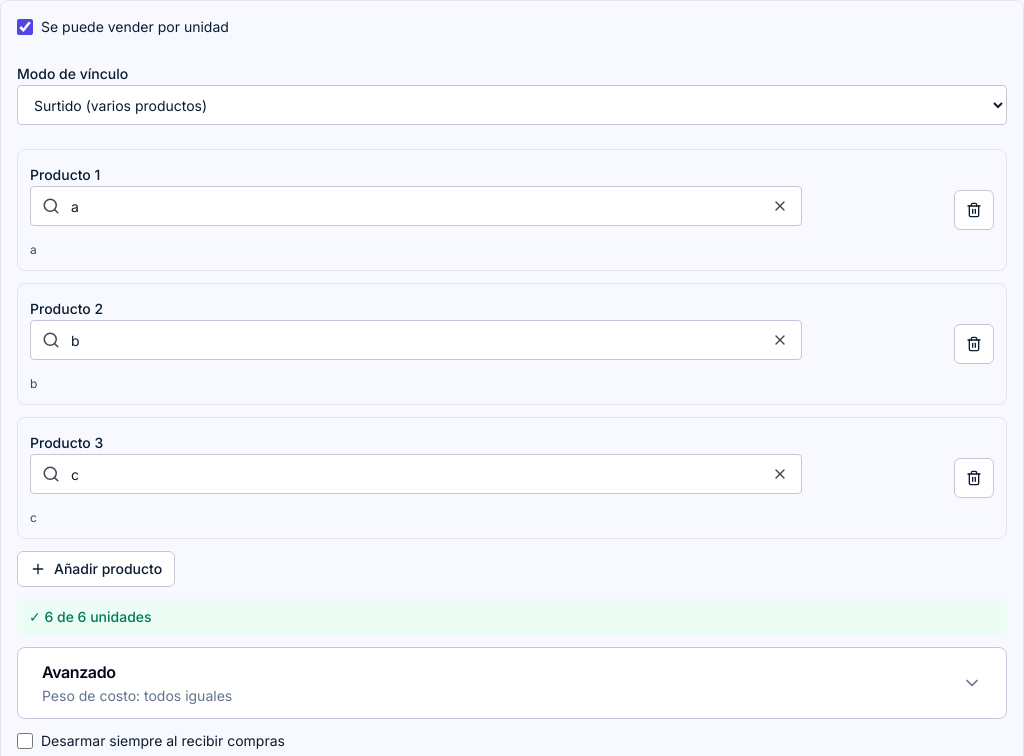
ProductPackConversionFields · modo surtido (PRO-13) › quitar una fila la saca de la receta y deja el foco en «Añadir producto»
Click the button named "Quitar producto 2": click(974, 344) [954,324,994,364]
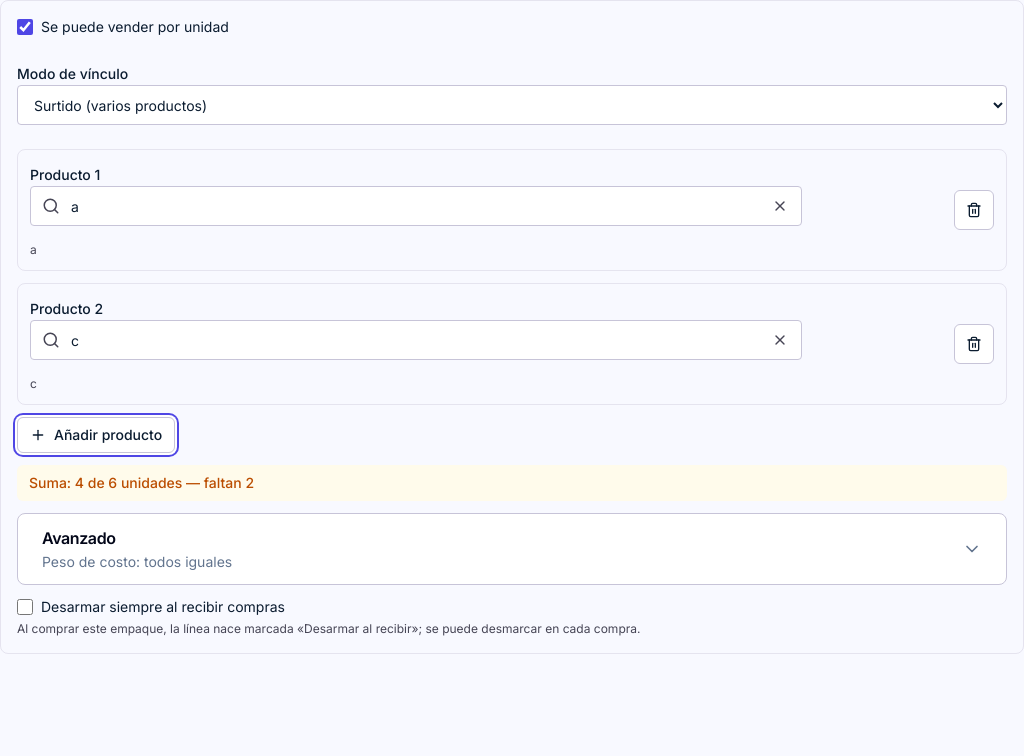
Now the text "Suma: 4 de 6 unidades — faltan 2" is shown, box [17,465,1007,501]
